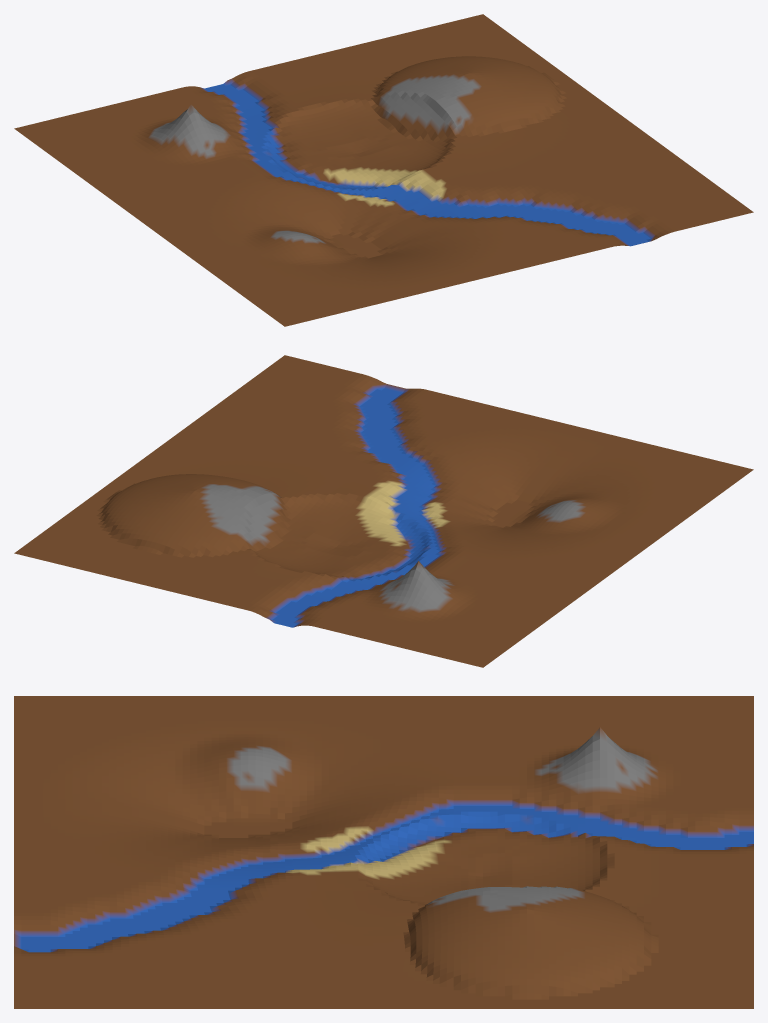
The model's file is terrain.gltf.
3 renders of one model, top to bottom at view 1: azimuth 30°, elevation 25°; view 2: azimuth 150°, elevation 25°; view 3: azimuth 270°, elevation 25°, orthographic. The views are drawn at different scales.
Visible parts, largest first — view 1: soil_at; view 2: soil_at; view 3: soil_at.
Part boxes in pixels (left/top/right/bottom): soil_at: left=14, top=14, right=753, bottom=326; soil_at: left=14, top=355, right=753, bottom=667; soil_at: left=14, top=696, right=753, bottom=1008.
Size of the model in its own units: 150 by 17.19 by 150.
